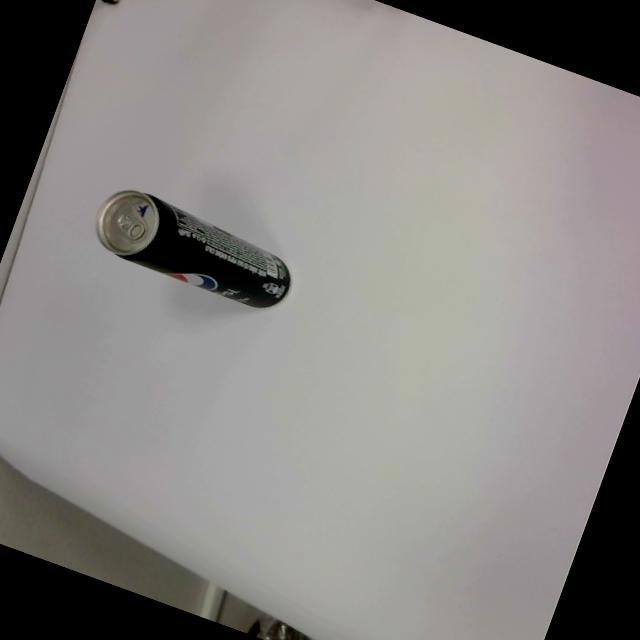debris: (86, 178, 304, 317)
